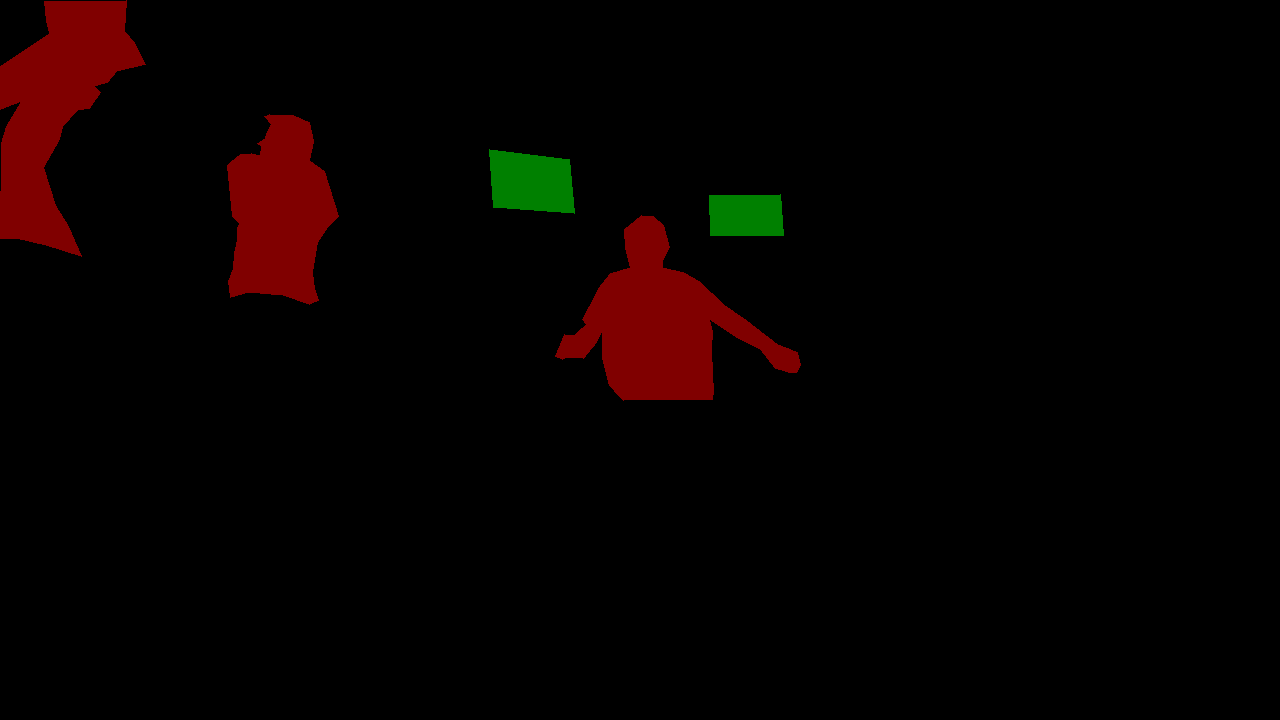person: (555, 215, 800, 400), (0, 0, 145, 256), (227, 114, 338, 304)
tvmonitor: (489, 149, 574, 213), (709, 194, 783, 235)
